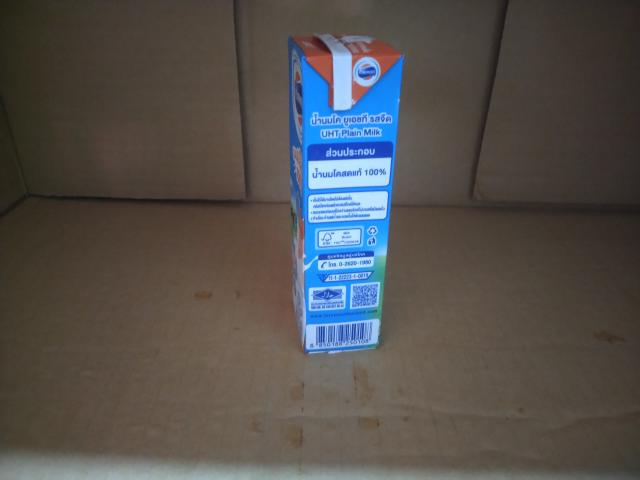drink_box: (279, 23, 412, 366)
